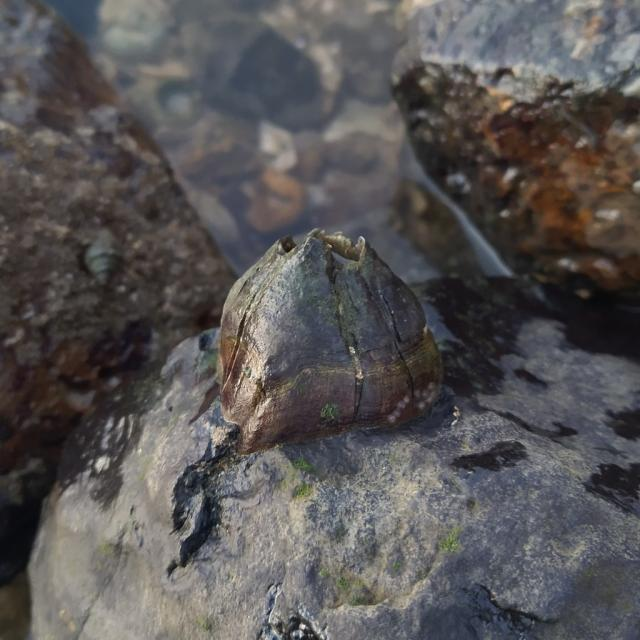barnacles: (205, 218, 444, 461)
